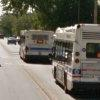Bus: (51, 20, 100, 100)
